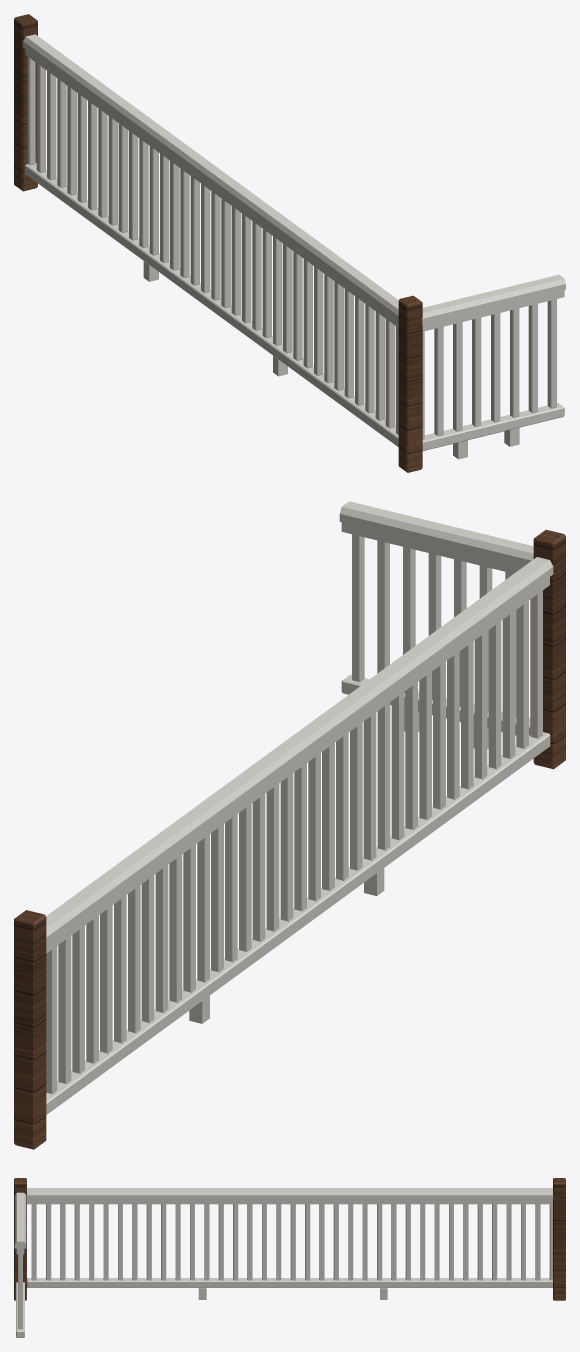
File: stair_rail.glb
3 views of the same model, one above another, from view 1: azimuth 30°, elevation 25°; view 2: azimuth 150°, elevation 25°; view 3: azimuth 270°, elevation 25° (orthographic). The views are drawn at different scales.
Visible parts, largest first — view 1: stair_rail_trim, stair_rail_dkwood; view 2: stair_rail_trim, stair_rail_dkwood; view 3: stair_rail_trim, stair_rail_dkwood.
Boxes of the visible parts, left/top/right/bottom form: stair_rail_trim: left=23, top=34, right=565, bottom=459; stair_rail_dkwood: left=14, top=14, right=422, bottom=472; stair_rail_trim: left=46, top=501, right=553, bottom=1114; stair_rail_dkwood: left=14, top=529, right=565, bottom=1149; stair_rail_trim: left=14, top=1188, right=553, bottom=1337; stair_rail_dkwood: left=14, top=1178, right=565, bottom=1300.
Size of the model in its own units: 0.99 by 1 by 4.24.
Materials: 2 (1 with a texture image).
